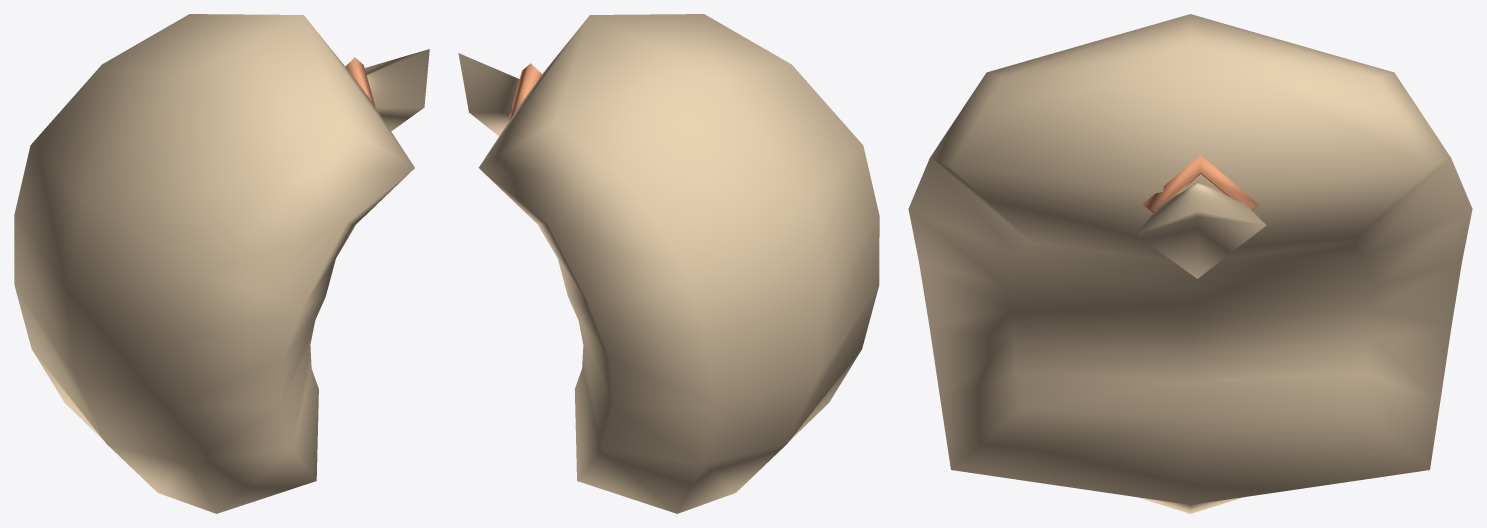
The model's file is Sac de farine av fermeture courbé.fbx.
3 views of the same model, side by side, from view 1: azimuth 30°, elevation 25°; view 2: azimuth 150°, elevation 25°; view 3: azimuth 270°, elevation 25° (orthographic). The views are drawn at different scales.
Visible parts, largest first — view 1: Sac de farine av fermeture courbé; view 2: Sac de farine av fermeture courbé; view 3: Sac de farine av fermeture courbé.
Part boxes in pixels (x1,y1,x2,y2): Sac de farine av fermeture courbé: [14, 14, 429, 513]; Sac de farine av fermeture courbé: [458, 14, 879, 513]; Sac de farine av fermeture courbé: [908, 14, 1472, 513].
Size of the model in its own units: 114 by 131 by 120.
